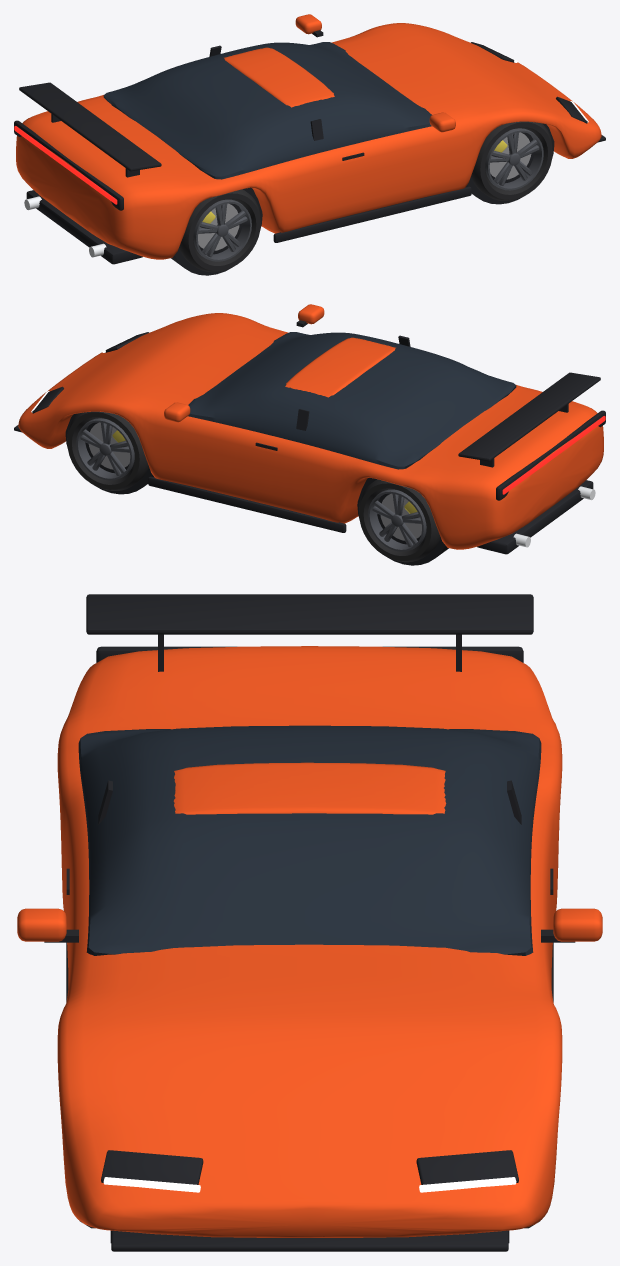
The model's file is kasai.glb.
3 renders of one model, top to bottom at view 1: azimuth 30°, elevation 25°; view 2: azimuth 150°, elevation 25°; view 3: azimuth 270°, elevation 25°, orthographic. The views are drawn at different scales.
Parts seen in each view (by area): view 1: car_paint, car_glass, car_trim, wheel_FR, wheel_RR, car_lightR, car_chrome; view 2: car_paint, car_glass, car_trim, wheel_FL, wheel_RL, car_lightR, car_chrome; view 3: car_paint, car_glass, car_trim, car_lightF.
Boxes of the visible parts, left/top/right/bottom form: car_paint: left=16, top=14, right=601, bottom=259; car_glass: left=103, top=42, right=431, bottom=179; car_trim: left=14, top=30, right=605, bottom=275; wheel_FR: left=471, top=121, right=552, bottom=200; wheel_RR: left=179, top=189, right=260, bottom=272; car_lightR: left=14, top=126, right=117, bottom=204; car_chrome: left=24, top=196, right=106, bottom=257; car_paint: left=18, top=304, right=603, bottom=549; car_glass: left=188, top=332, right=516, bottom=469; car_trim: left=14, top=320, right=605, bottom=565; wheel_FL: left=67, top=411, right=148, bottom=490; wheel_RL: left=359, top=479, right=440, bottom=562; car_lightR: left=502, top=416, right=605, bottom=494; car_chrome: left=513, top=486, right=595, bottom=547; car_paint: left=17, top=646, right=602, bottom=1237; car_glass: left=78, top=725, right=541, bottom=955; car_trim: left=44, top=594, right=575, bottom=1251; car_lightF: left=103, top=1177, right=516, bottom=1192.
Bounding box in the file's own units: 4.67 × 1.23 × 2.38.
